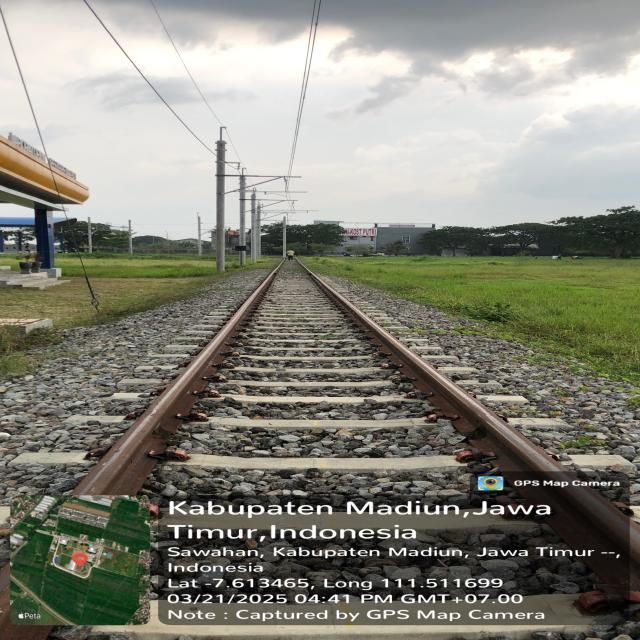rail-detection: (301, 266, 640, 599), (71, 265, 281, 496)
